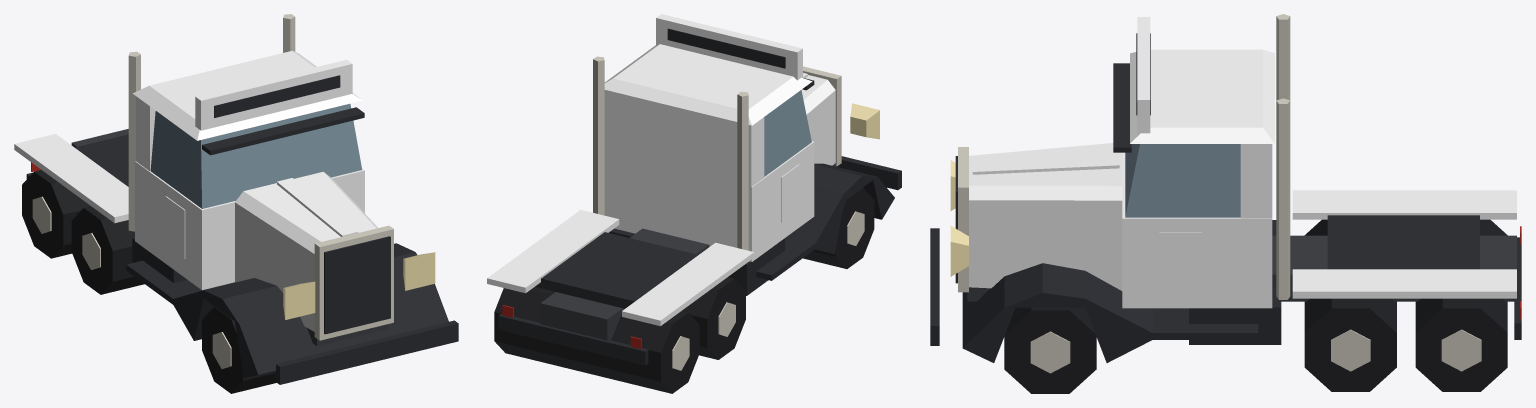
File: rt_tractor.glb
3 renders of one model, left to right at view 1: azimuth 30°, elevation 25°; view 2: azimuth 150°, elevation 25°; view 3: azimuth 270°, elevation 25°, orthographic. The views are drawn at different scales.
Visible parts, largest first — view 1: model; view 2: model; view 3: model.
Boxes of the visible parts, bbox=[...] form: model: bbox=[14, 14, 458, 393]; model: bbox=[487, 14, 901, 393]; model: bbox=[930, 14, 1521, 393].
Size of the model in its own units: 2.7 by 3.4 by 6.4.
